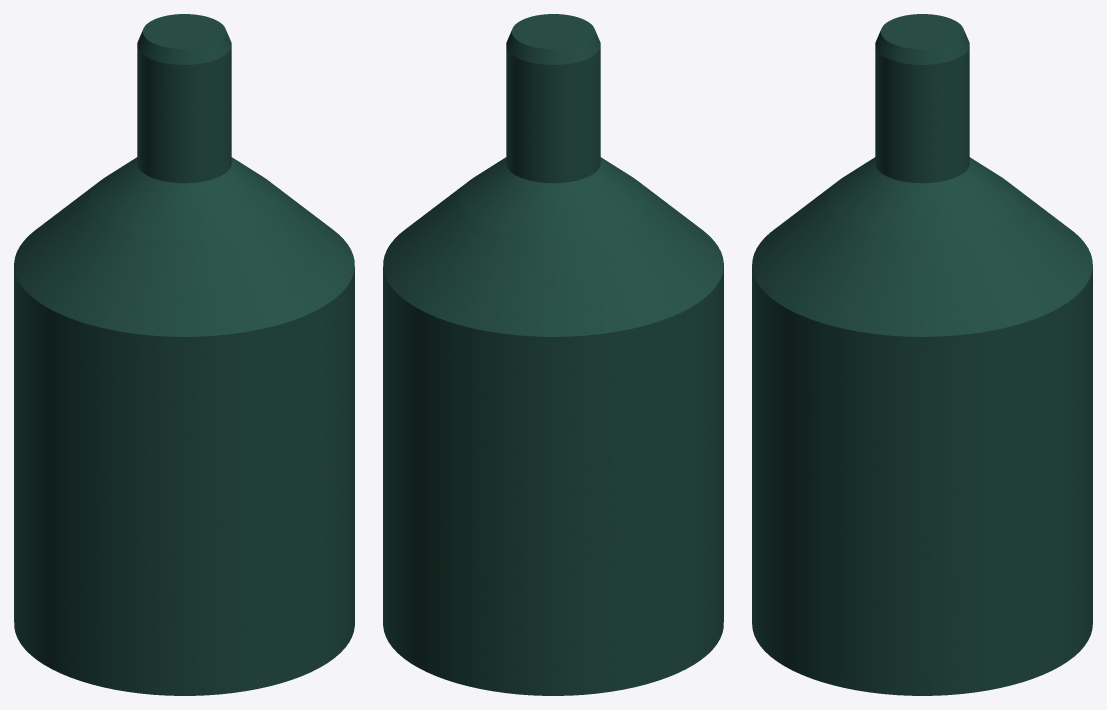
The model's file is misc_com_bottle_10.dae.
3 renders of one model, left to right at view 1: azimuth 30°, elevation 25°; view 2: azimuth 150°, elevation 25°; view 3: azimuth 270°, elevation 25°, orthographic.
Parts seen in each view (by area): view 1: jade; view 2: jade; view 3: jade.
Boxes of the visible parts, left/top/right/bottom form: jade: left=14, top=14, right=354, bottom=695; jade: left=383, top=14, right=723, bottom=695; jade: left=752, top=14, right=1092, bottom=695.
Bounding box in the file's own units: 18.46 × 18.46 × 35.75.
